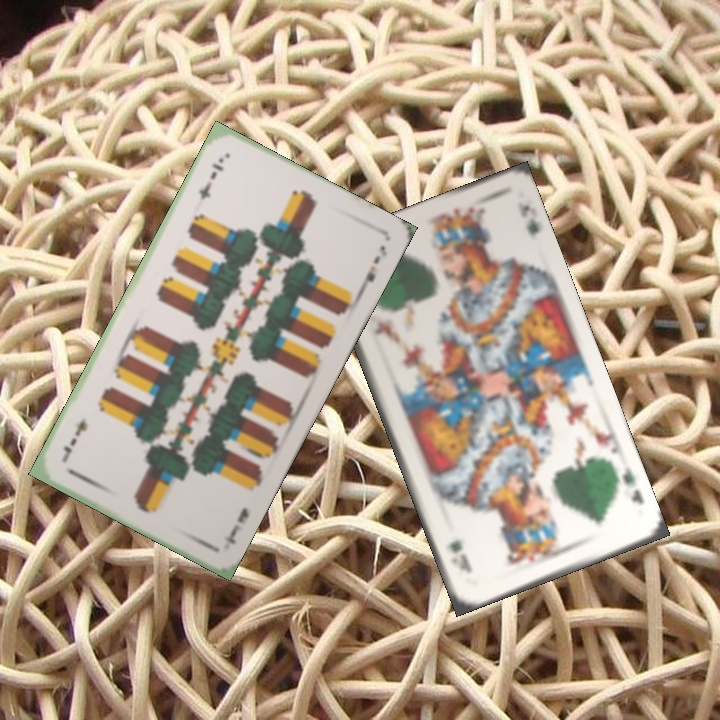E7: (194, 153, 227, 203), (220, 503, 252, 547)
GK: (618, 462, 647, 507)
